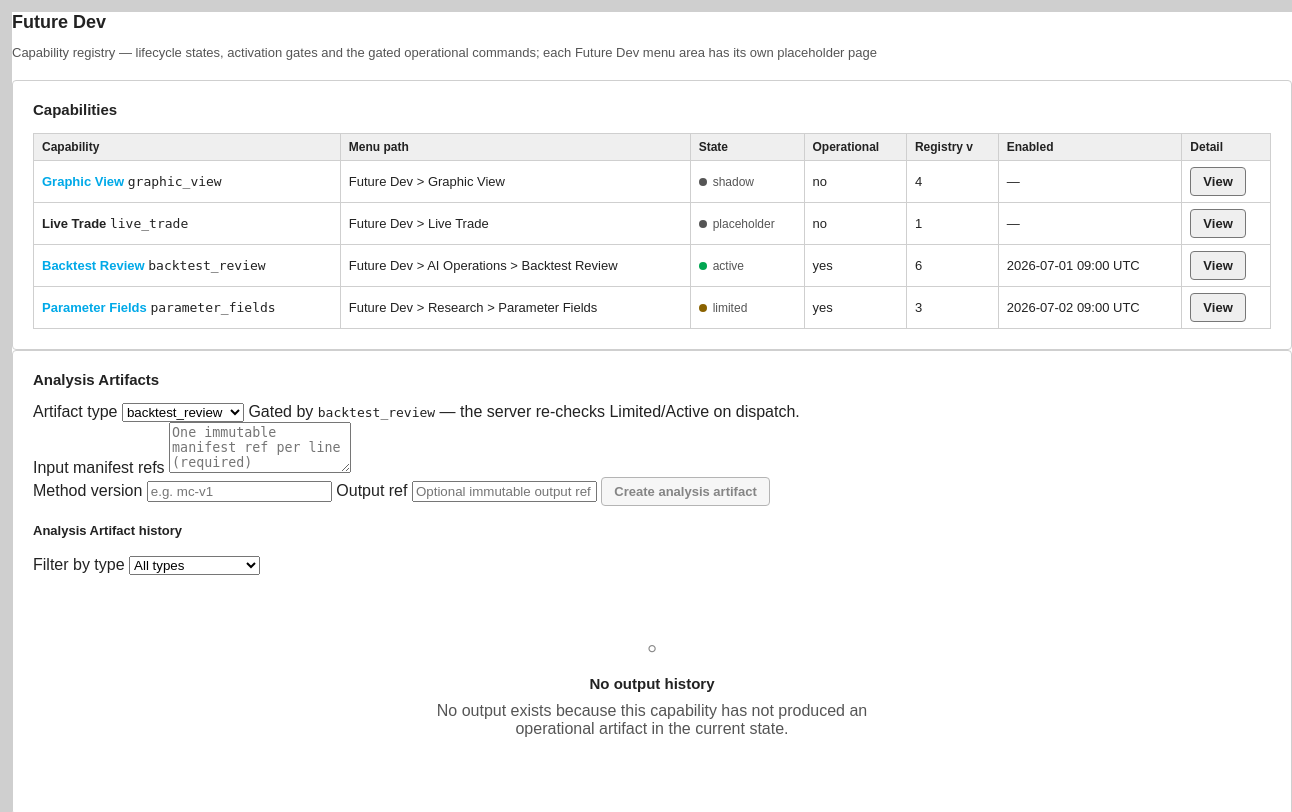
Future Dev page › hides the lifecycle transition composer for a non-Admin identity
Expected: the text "Live Trade" is shown, x1=42 y1=216 x2=106 y2=231
Click the button "View" in the row of "graphic_view": (1218, 182) x1=1190 y1=167 x2=1246 y2=196
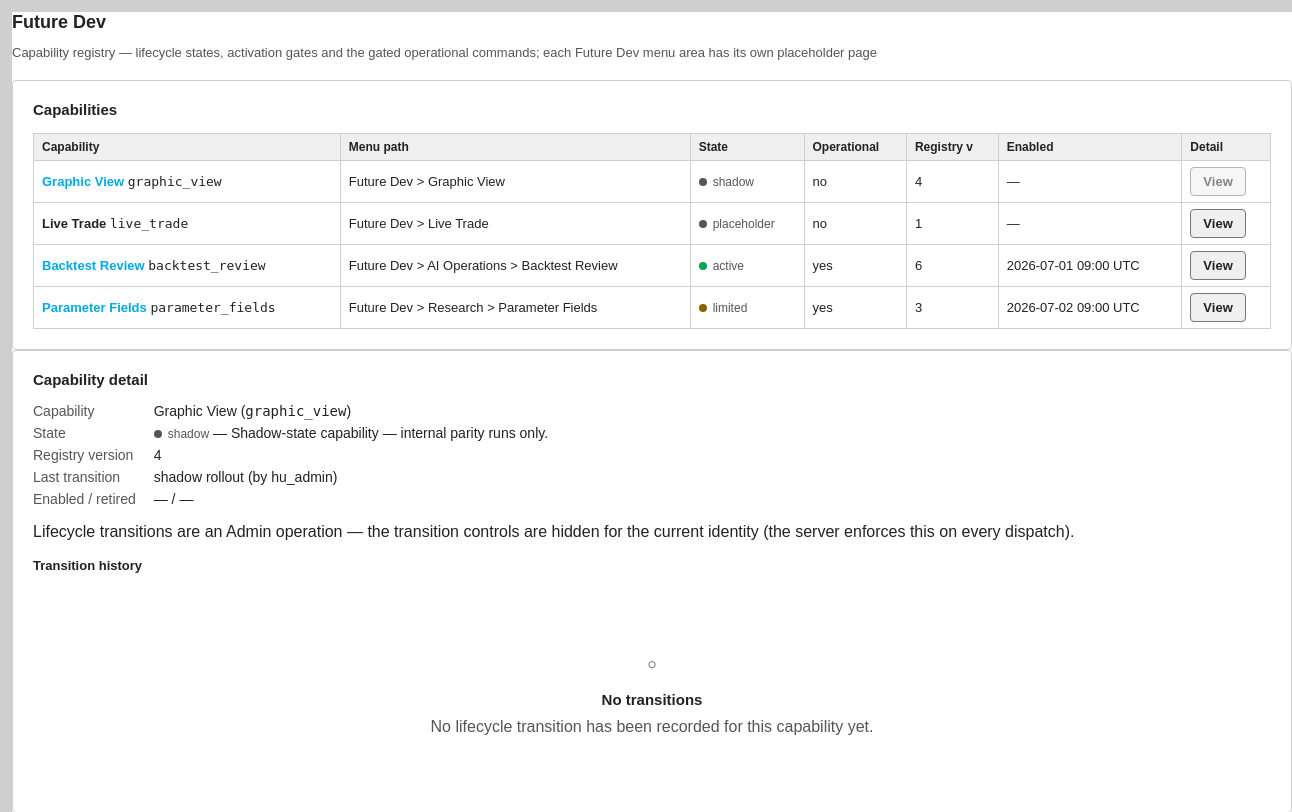
Result: the text "shadow rollout (by hu_admin)" is shown at x1=154 y1=469 x2=337 y2=485
Result: the text "Lifecycle transitions are an Admin operation" is shown at x1=33 y1=523 x2=1074 y2=540
